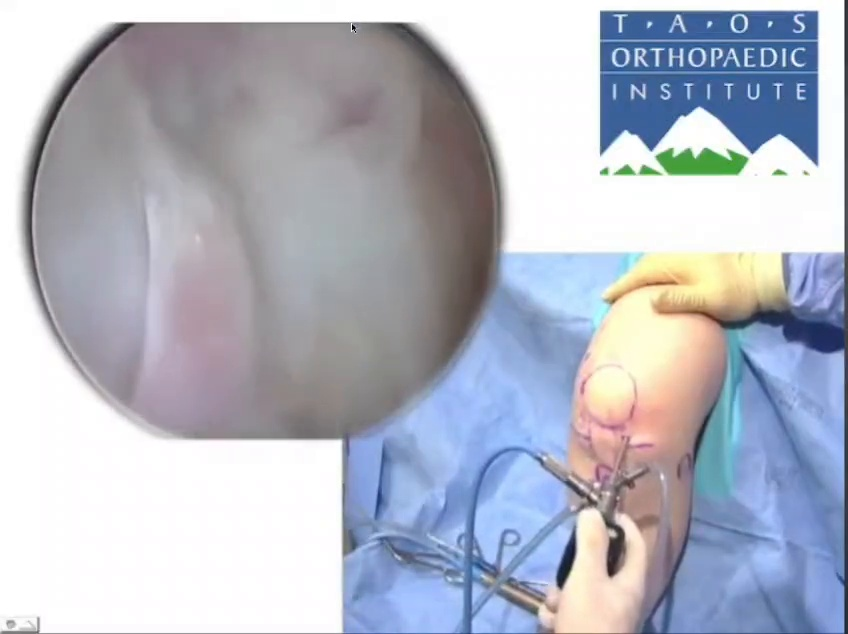probe: (734, 339, 806, 455)
